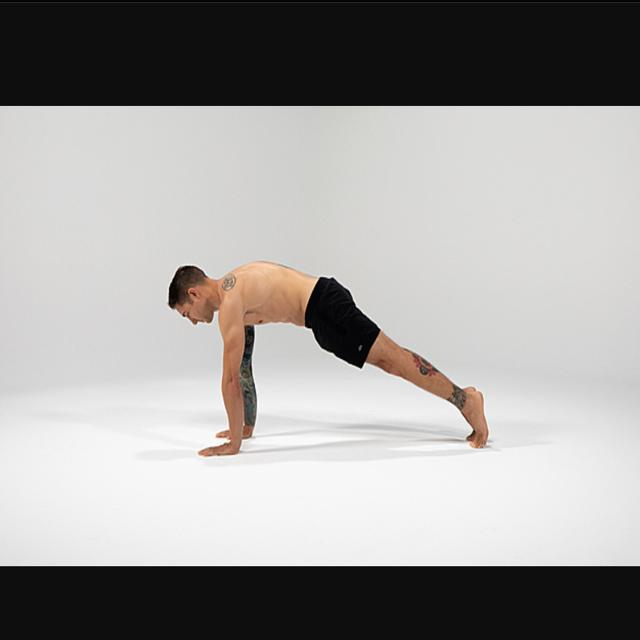Plank_Pose: (145, 247, 512, 482)
